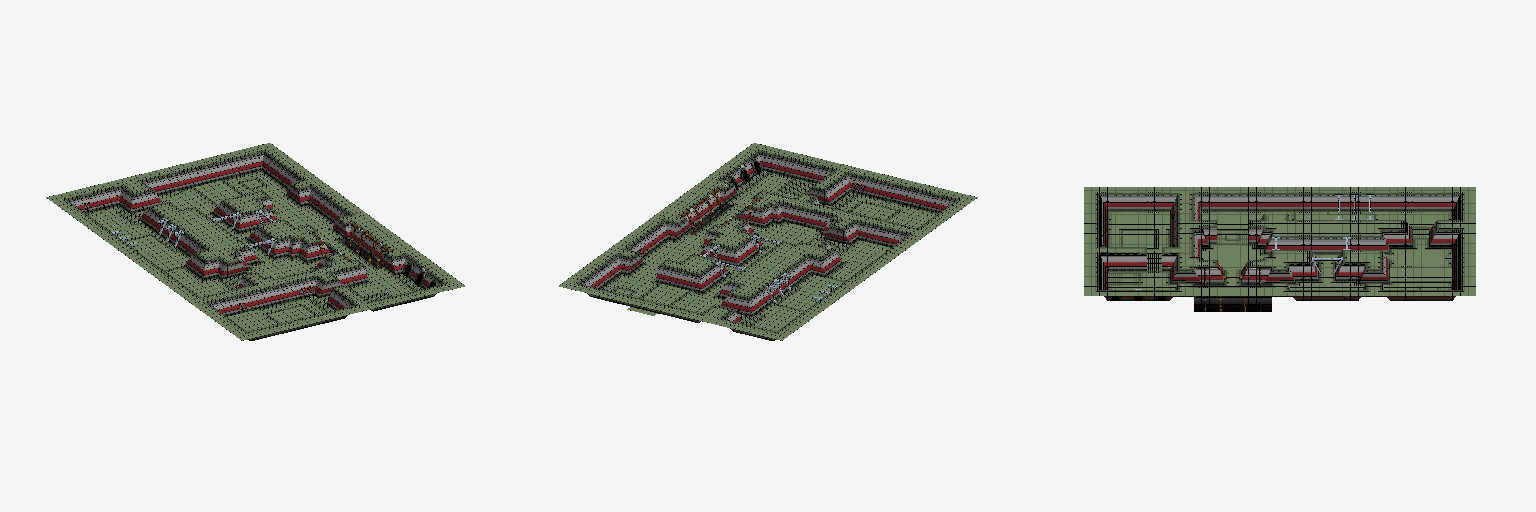
3 views of the same model, side by side, from view 1: azimuth 30°, elevation 25°; view 2: azimuth 150°, elevation 25°; view 3: azimuth 270°, elevation 25° (orthographic).
Size of the model in its own units: 66 by 8 by 100.
2 materials, 2 textured.